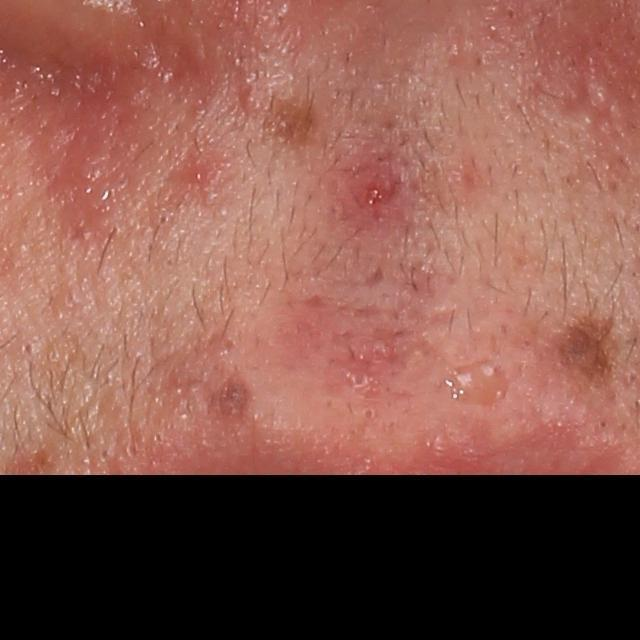atrophic_scar: (556, 51, 616, 145)
comedo: (151, 209, 176, 232), (21, 339, 38, 357)
